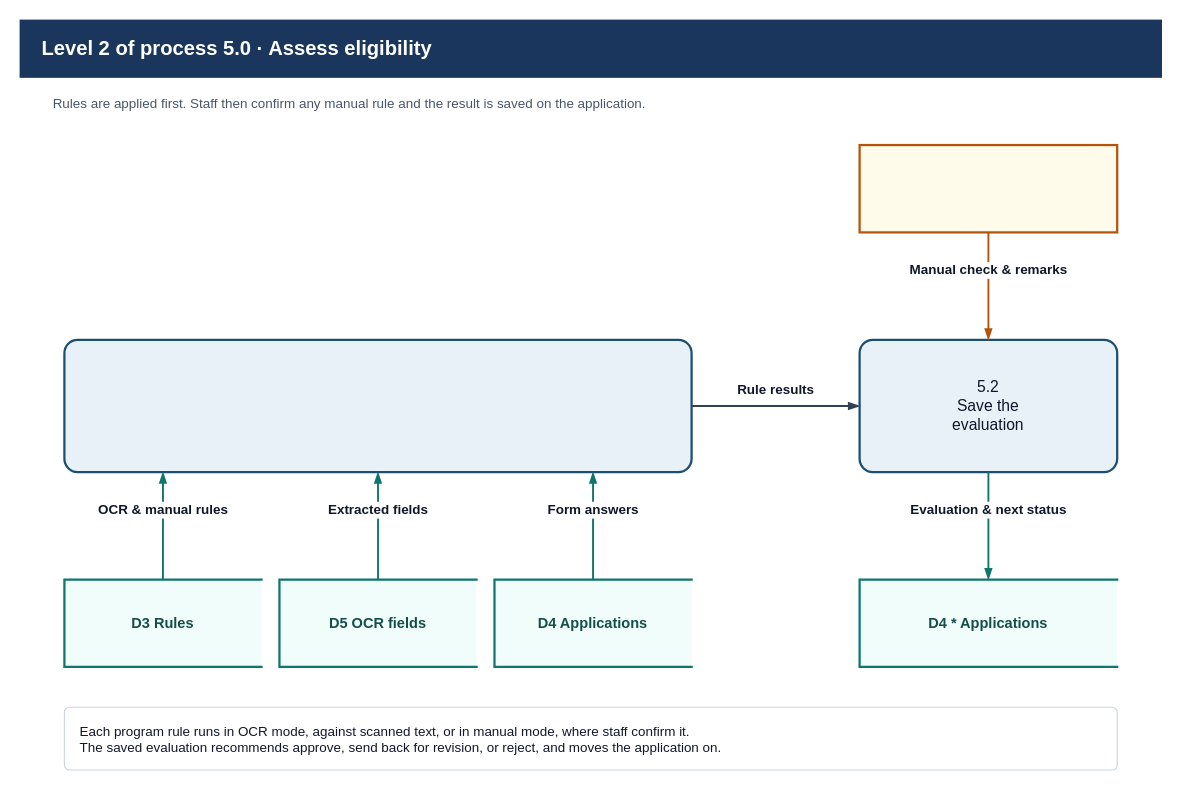
This 1180x790 diagram has some shape labels left out. The box of each missing label's shape, as (x1, y1, x2, y2) in pixels:
5.1 Apply eligibility rules: (63, 338, 692, 473)
LYDO Staff: (858, 143, 1118, 233)
